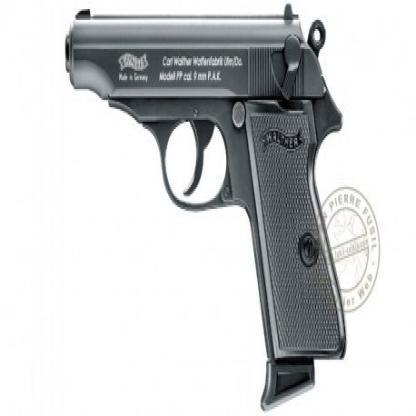Pistol: (62, 2, 346, 409)
